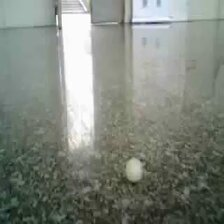w: (124, 156, 146, 183)
